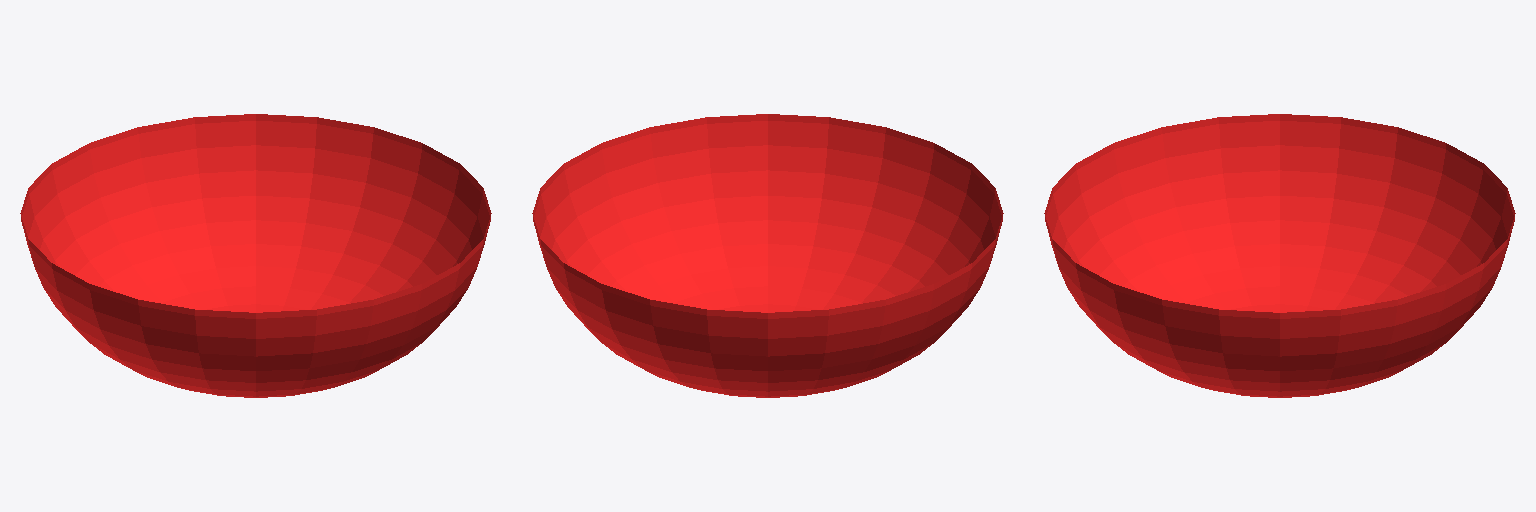
URDF robot description (bowl):
<?xml version="0.0" ?>
<robot name="bowl">
    <link concave="yes" name="base_link">
        <!-- <contact>
            <lateral_friction value="3.0"/>
            <rolling_friction value="3.0"/>
            <spinning_friction value="3.0"/>
        </contact> -->
        <inertial>
            <origin xyz="0 0 0.03"/>
            <mass value="1"/>
            <inertia ixx="1" ixy="0" ixz="0" iyy="1" iyz="0" izz="1"/>
        </inertial>
        <visual>
            <origin xyz="-0.05 0.05 0"/>
            <geometry>
                <mesh filename="bowl.obj" scale="0.016 0.016 0.016"/>
            </geometry>
      <material name="bowl">
        <color rgba="1 0.2 0.2 1"/>
        <specular rgb="1 1 1"/>
      </material>
        </visual>
        <collision concave="yes">
            <origin xyz="-0.05 0.05 -0.001"/>
            <geometry>
                <mesh filename="bowl.obj" scale="0.016 0.016 0.016"/>
            </geometry>
        </collision>
    </link>
</robot>

--- Render facts (derived) ---
Views: 3 orthographic renders of the robot side by side, from view 1: azimuth 30°, elevation 25°; view 2: azimuth 150°, elevation 25°; view 3: azimuth 270°, elevation 25°.
Robot: bowl — 1 links, 0 joints (none); root link base_link; default pose: every joint at zero.
Links seen in each view (by area): view 1: base_link; view 2: base_link; view 3: base_link.
Boxes of the visible links, box(x1,y1,x2,y2) form: base_link: box(20, 114, 491, 397); base_link: box(532, 114, 1003, 397); base_link: box(1044, 114, 1515, 397).
Size in the robot's own frame: 0.106 by 0.106 by 0.0356 metres.
1 mesh visuals loaded from 1 distinct referenced files (1 OBJ).